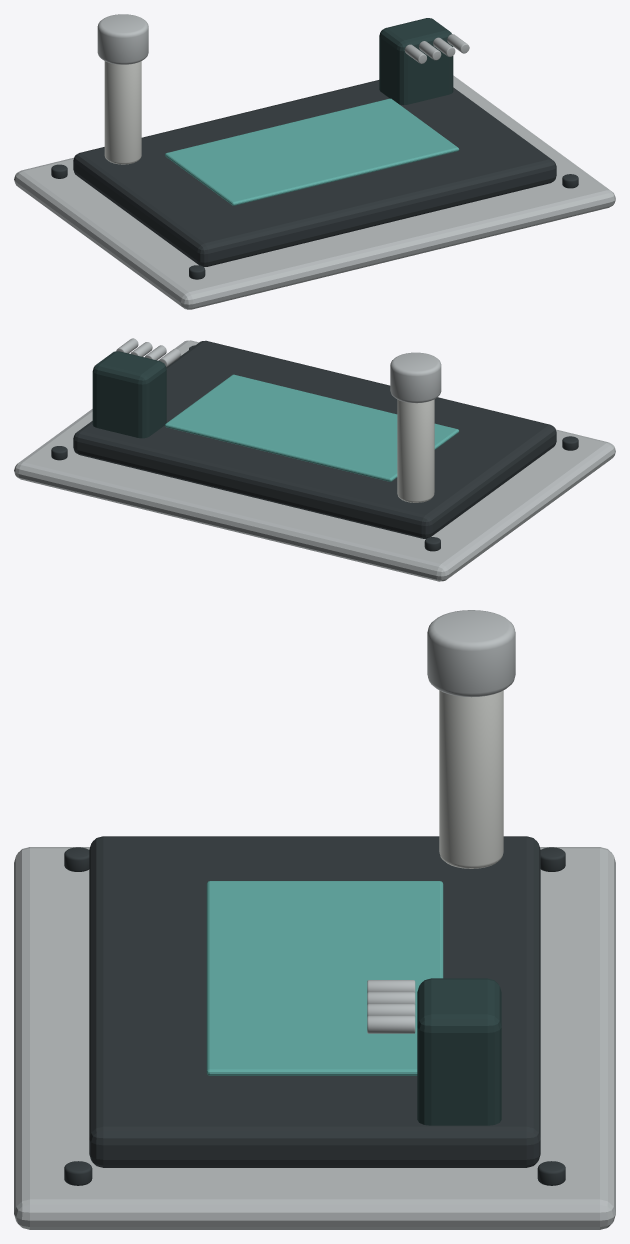
The model's file is HumidityStage.fbx.
3 renders of one model, top to bottom at view 1: azimuth 30°, elevation 25°; view 2: azimuth 150°, elevation 25°; view 3: azimuth 270°, elevation 25°, orthographic. The views are drawn at different scales.
Visible parts, largest first — view 1: RaisedDeck, MachinedPlinth, SpecimenWindow, VaporManifold, HumiditySensor, SensorGuard; view 2: RaisedDeck, MachinedPlinth, SpecimenWindow, VaporManifold, HumiditySensor, SensorGuard; view 3: RaisedDeck, MachinedPlinth, SpecimenWindow, VaporManifold, HumiditySensor, SensorGuard, VaporPort.003.
Part boxes in pixels (bbox=[...]): RaisedDeck: bbox=[73, 80, 556, 266]; MachinedPlinth: bbox=[14, 75, 615, 309]; SpecimenWindow: bbox=[165, 98, 459, 205]; VaporManifold: bbox=[379, 18, 453, 105]; HumiditySensor: bbox=[104, 61, 141, 164]; SensorGuard: bbox=[97, 14, 148, 64]; RaisedDeck: bbox=[73, 340, 556, 538]; MachinedPlinth: bbox=[14, 340, 615, 581]; SpecimenWindow: bbox=[165, 374, 458, 481]; VaporManifold: bbox=[92, 351, 166, 438]; HumiditySensor: bbox=[397, 399, 434, 502]; SensorGuard: bbox=[390, 352, 441, 403]; RaisedDeck: bbox=[89, 836, 540, 1167]; MachinedPlinth: bbox=[14, 847, 615, 1229]; SpecimenWindow: bbox=[206, 881, 443, 1075]; VaporManifold: bbox=[417, 978, 501, 1125]; HumiditySensor: bbox=[439, 690, 503, 868]; SensorGuard: bbox=[427, 610, 515, 697]; VaporPort.003: bbox=[367, 1015, 415, 1033].
Size of the model in its own units: 4.3 by 1.67 by 3.
